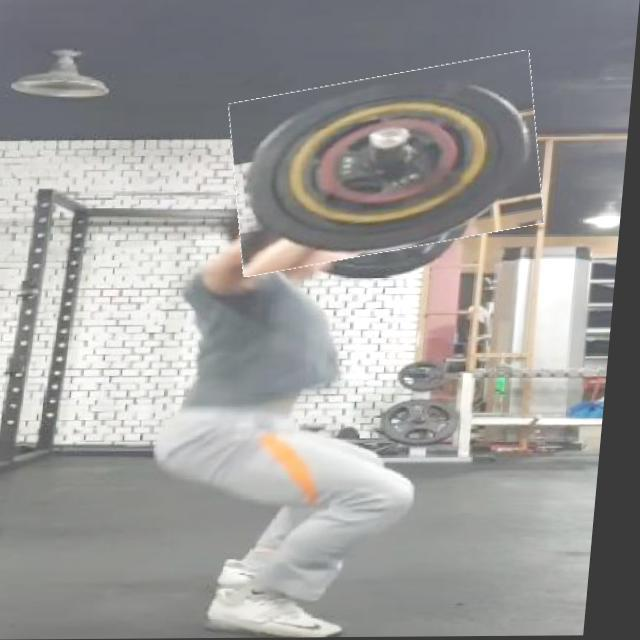barbell: (227, 65, 554, 267)
